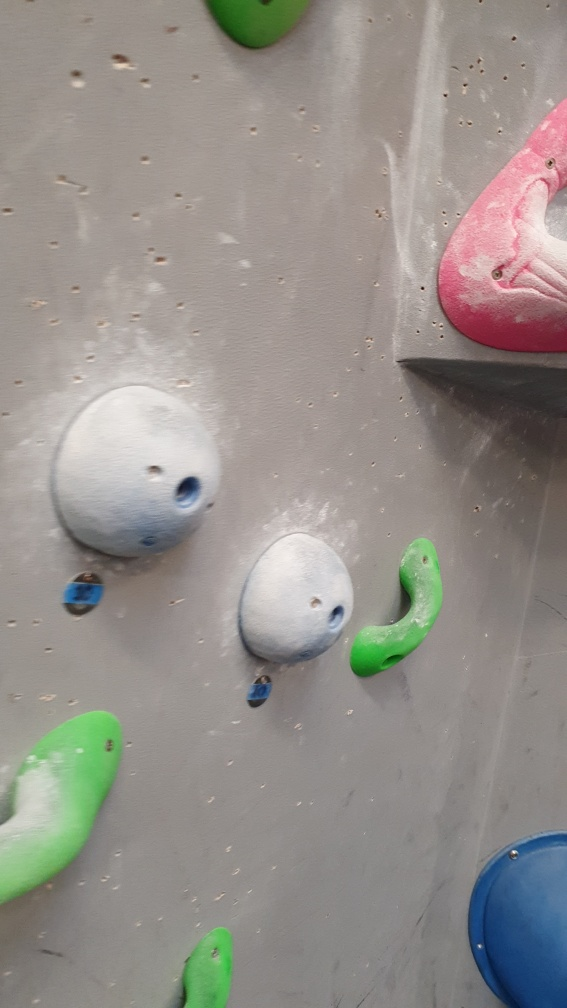Hand Start: (61, 570, 104, 619), (247, 674, 274, 713)
Pocket: (437, 102, 567, 353)
Sloper: (46, 379, 219, 564), (237, 534, 361, 664)
